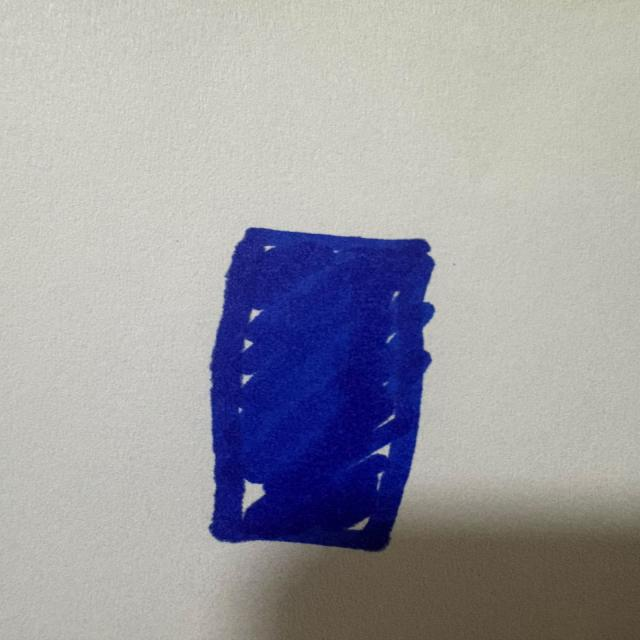Rectangle: (209, 228, 434, 551)
